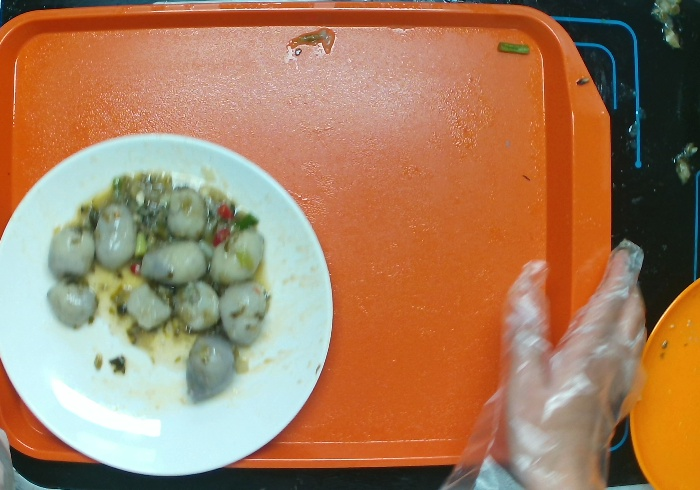HZYJPL-Bai_Se_Yuan_Pan: (1, 121, 339, 481)
